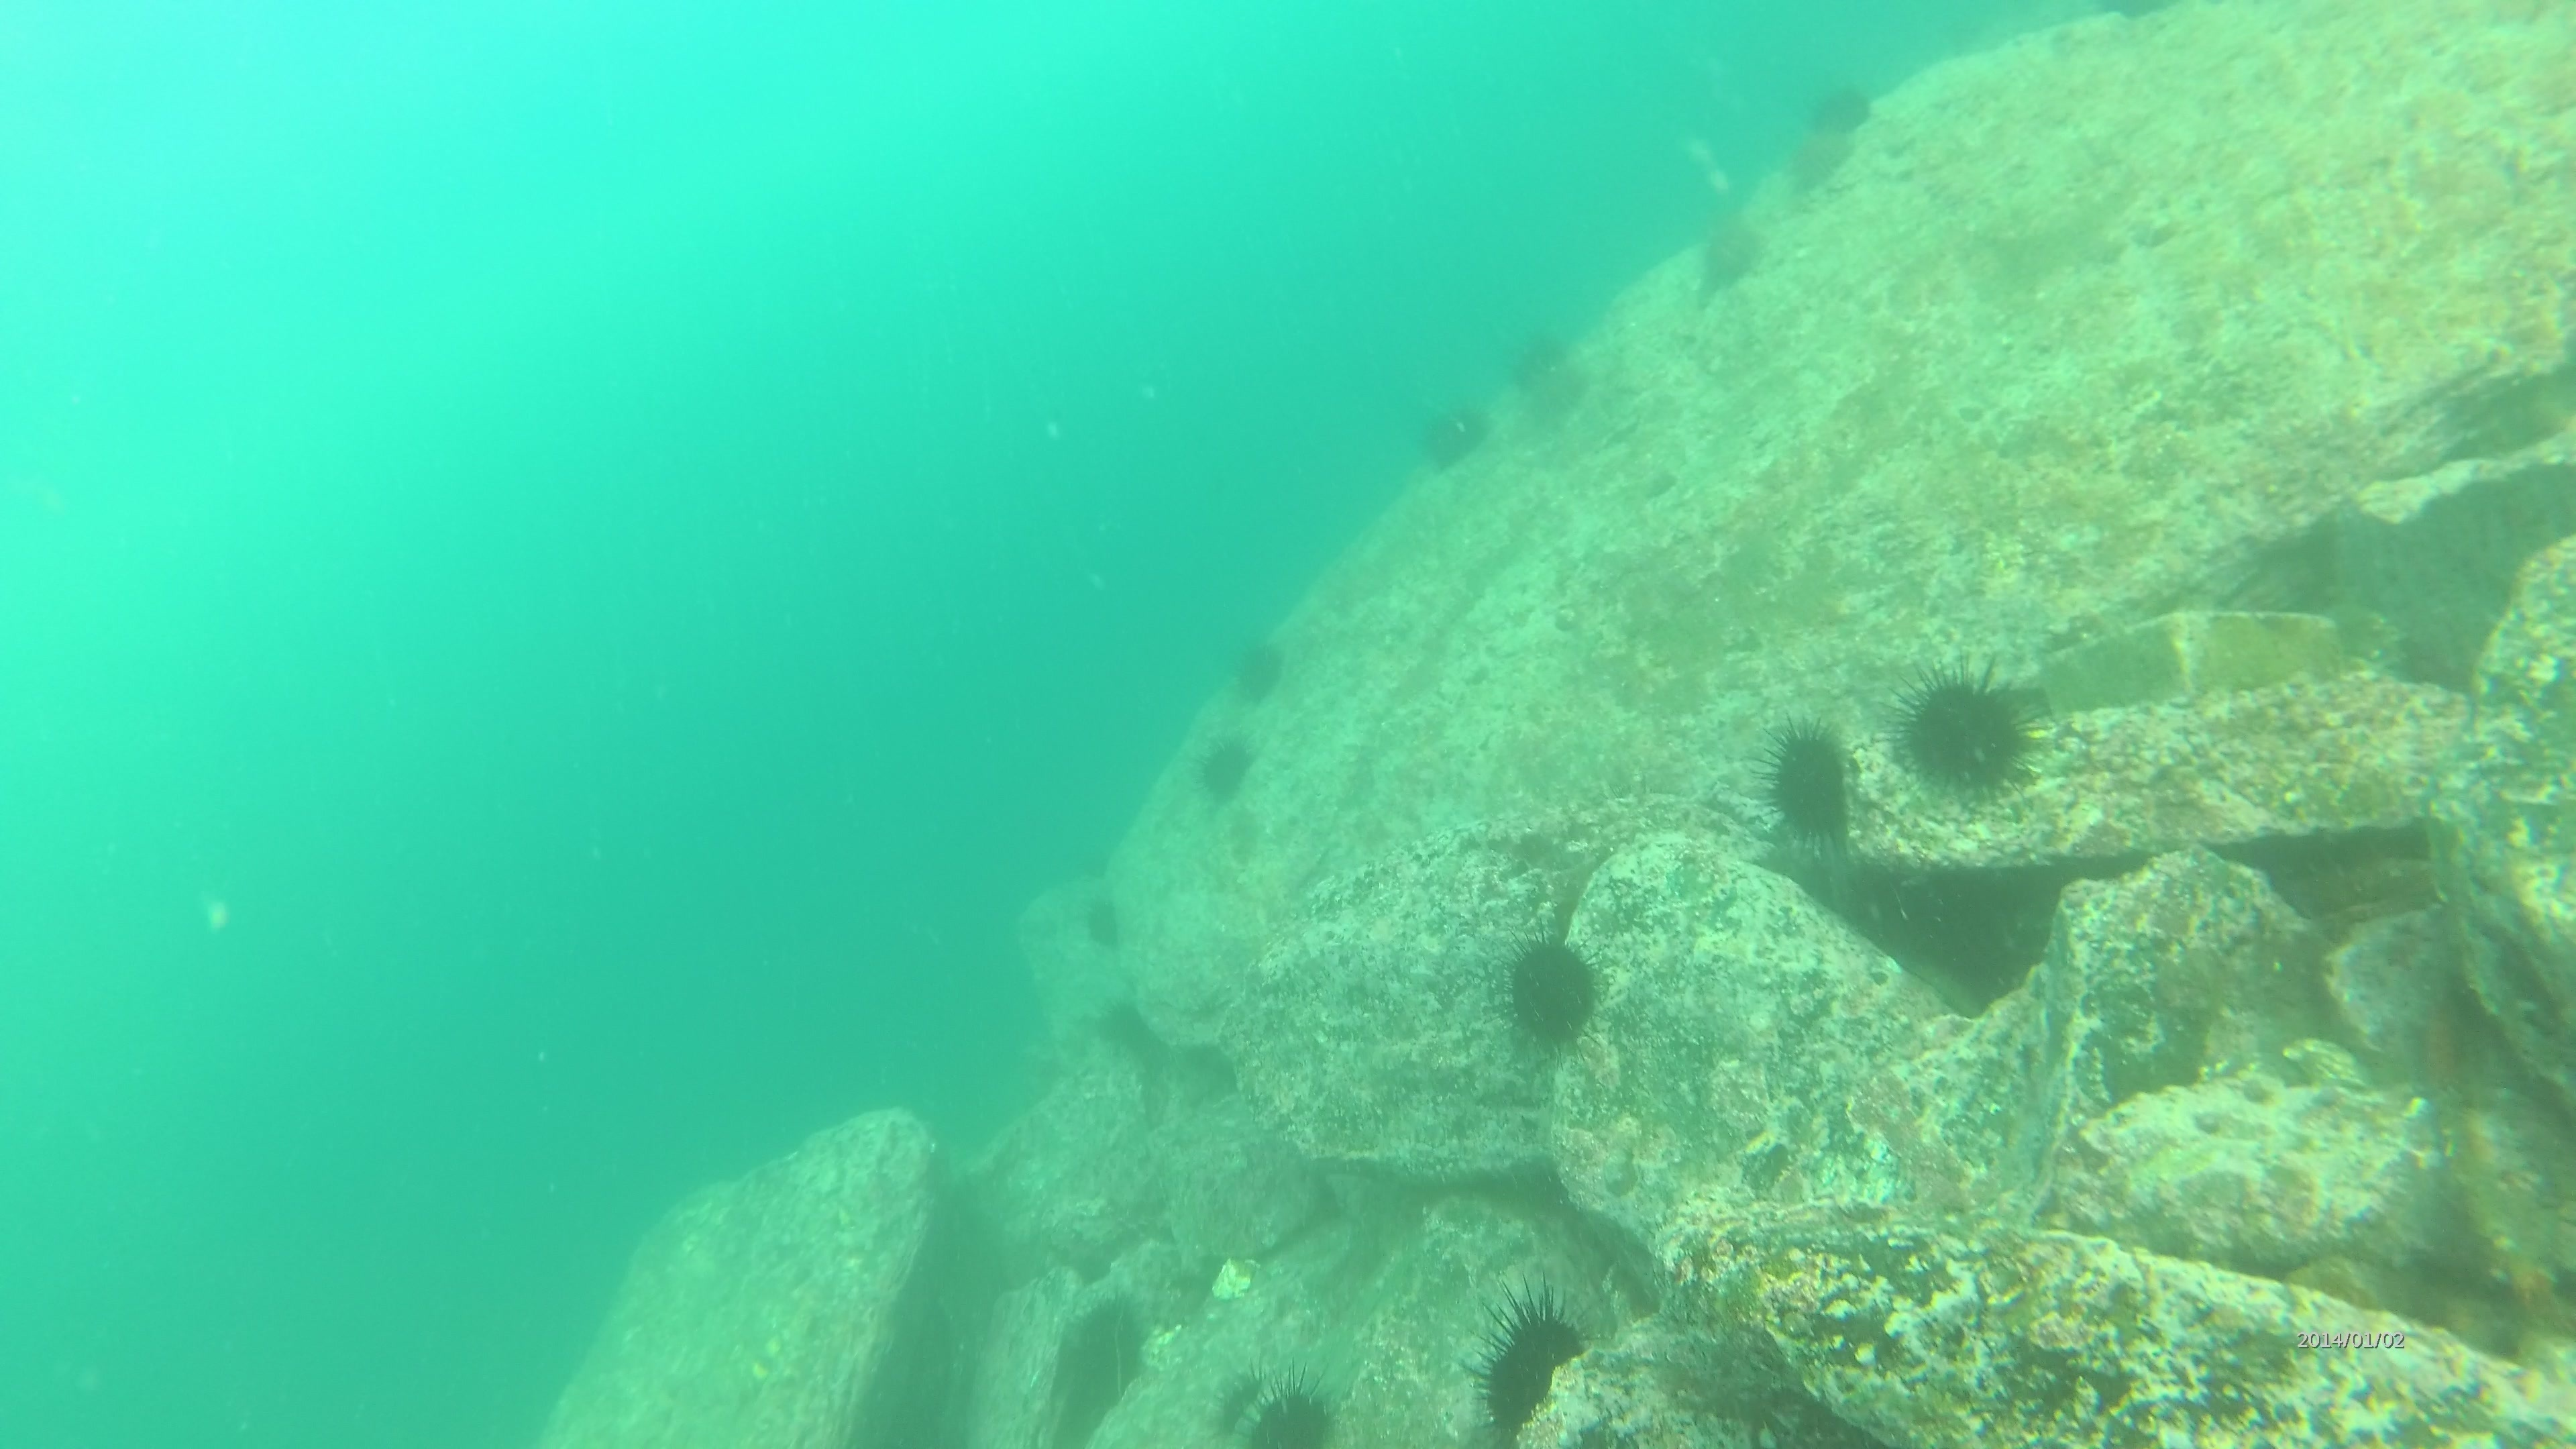echinus: (1888, 658, 2047, 805), (1463, 1284, 1599, 1437), (1755, 715, 1863, 847), (1046, 1292, 1155, 1419), (1497, 931, 1608, 1053), (1210, 1364, 1346, 1444), (1504, 326, 1592, 430), (1688, 205, 1771, 299), (1776, 117, 1859, 198), (1412, 395, 1493, 474), (1191, 729, 1260, 809), (1801, 74, 1879, 142), (1224, 632, 1292, 708), (1079, 892, 1131, 954)
